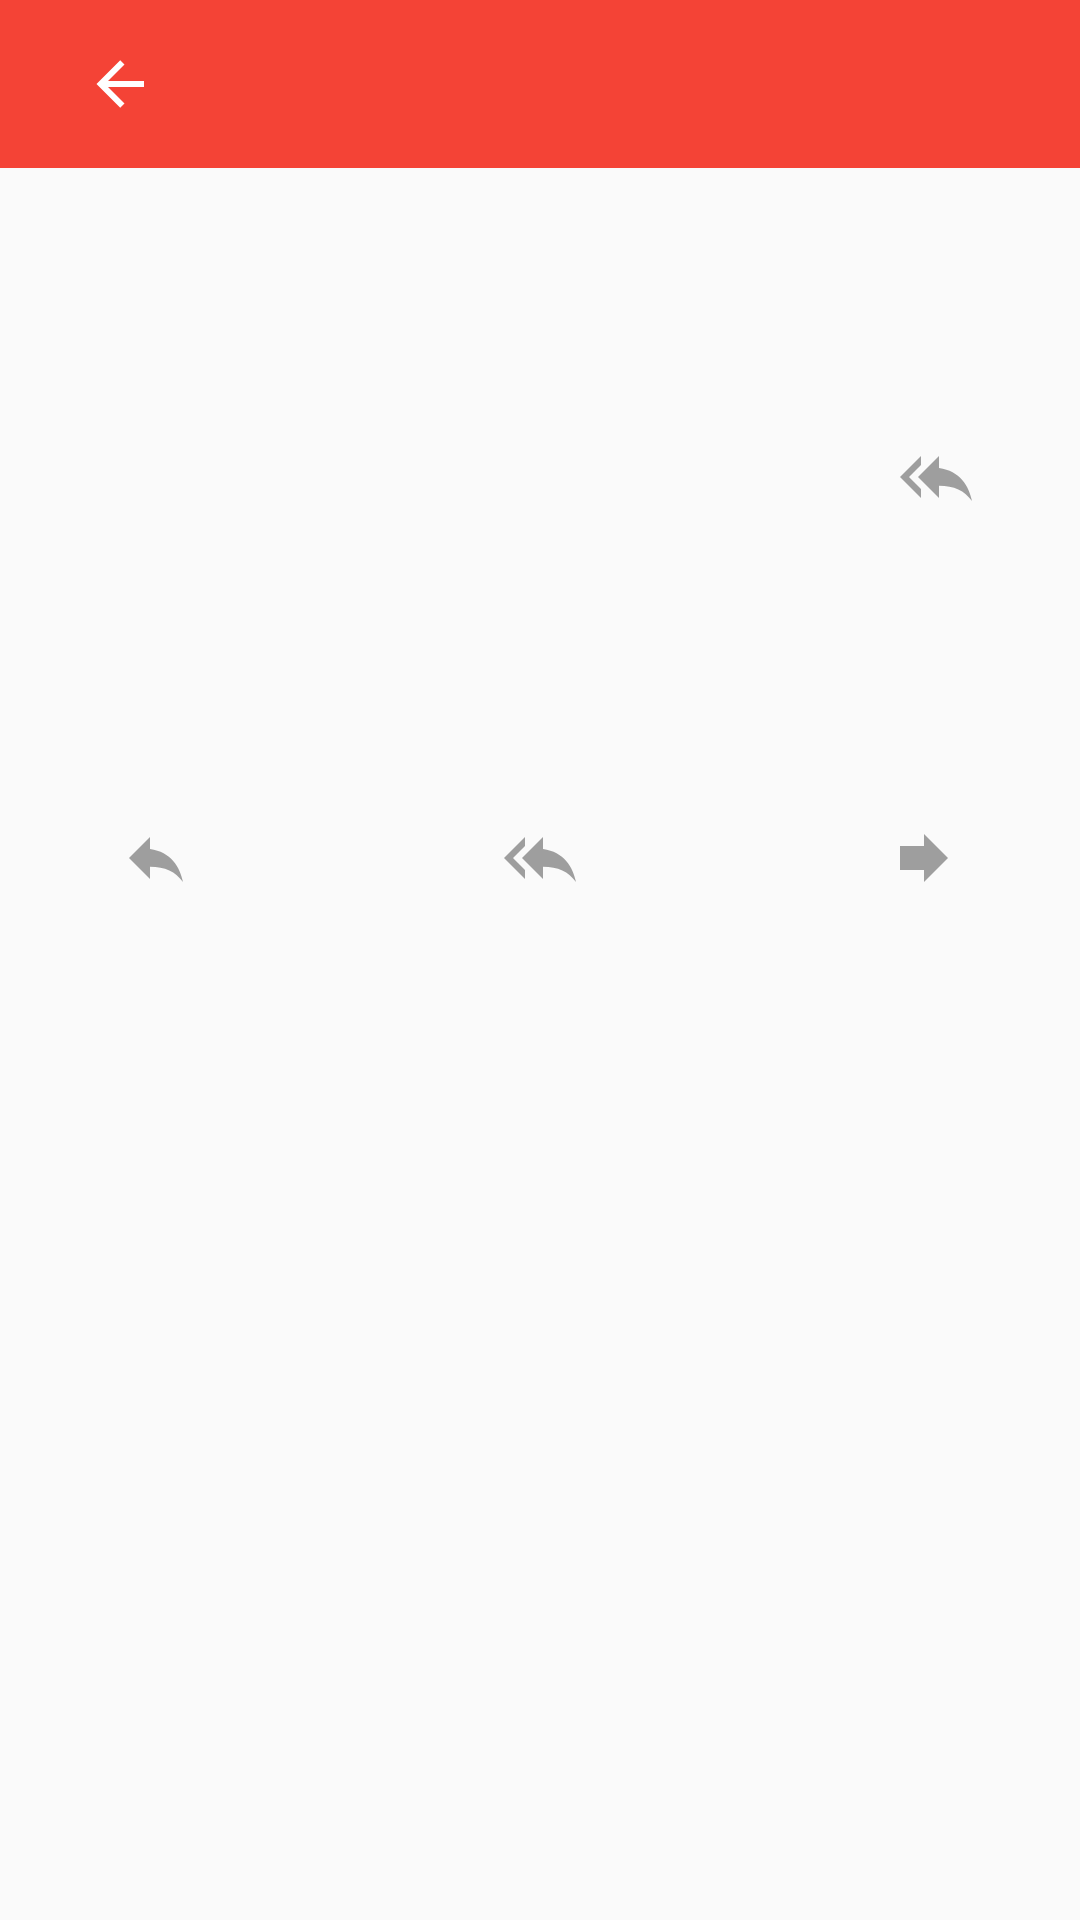

Screen size 1080px×1920px. Icon name, then its box in pixels as (x1,y1,x2,y2):
arrow left: (97,60,144,108)
forward: (900,834,948,882)
reply: (129,837,183,882)
reply all: (900,456,972,501), (504,837,576,882)
